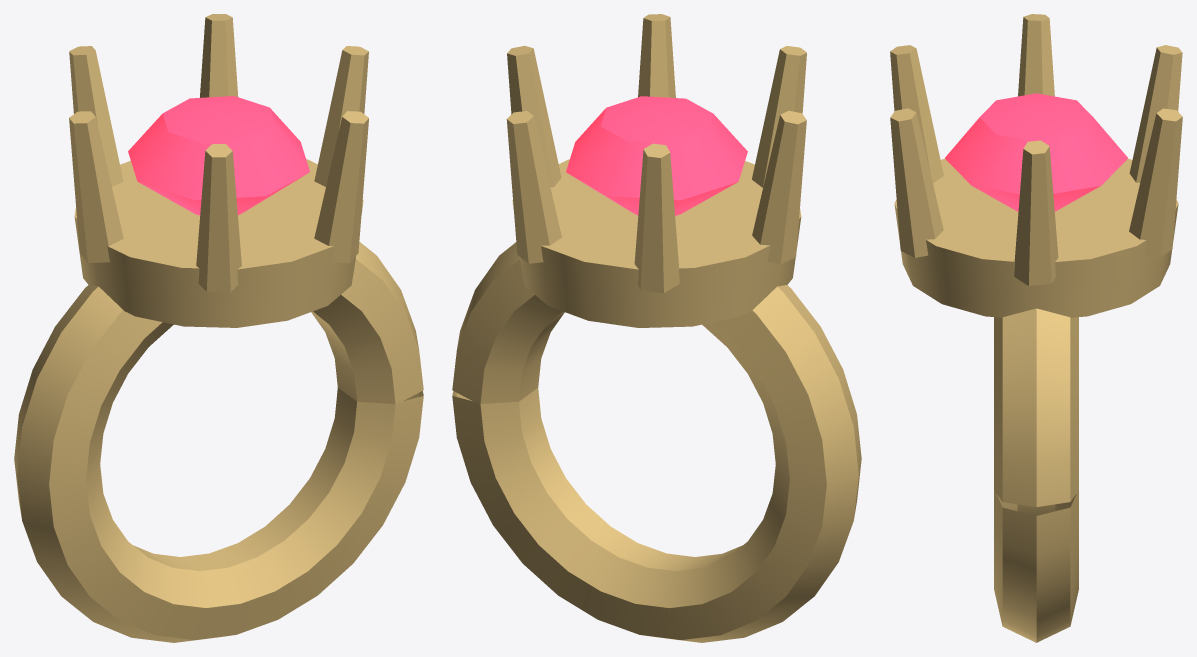
The model's file is kingsguard_crown_ring.glb.
3 views of the same model, side by side, from view 1: azimuth 30°, elevation 25°; view 2: azimuth 150°, elevation 25°; view 3: azimuth 270°, elevation 25° (orthographic). The views are drawn at different scales.
Parts seen in each view (by area): view 1: kingsguard_crown_ring; view 2: kingsguard_crown_ring; view 3: kingsguard_crown_ring.
Boxes of the visible parts, bbox=[...] form: kingsguard_crown_ring: bbox=[14, 14, 423, 642]; kingsguard_crown_ring: bbox=[452, 14, 861, 642]; kingsguard_crown_ring: bbox=[890, 14, 1182, 642].
Size of the model in its own units: 0.0272 by 0.0357 by 0.0175.
